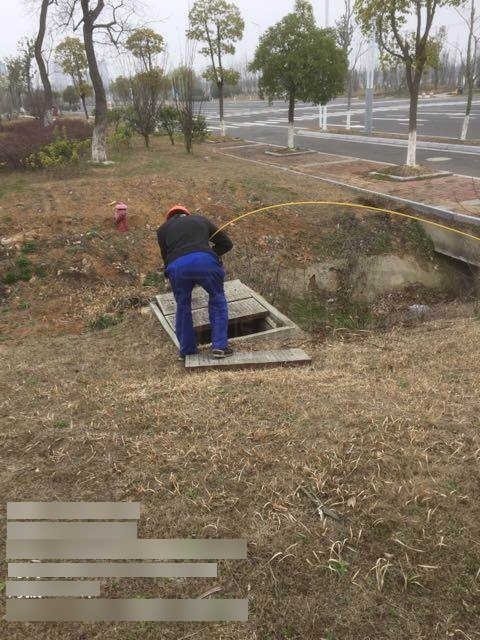uncovered: (149, 275, 310, 370)
